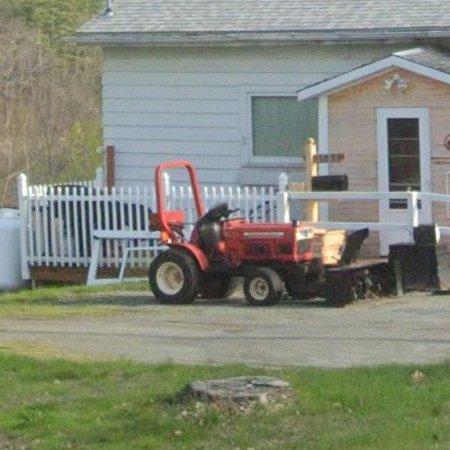tractors: (149, 161, 323, 306)
